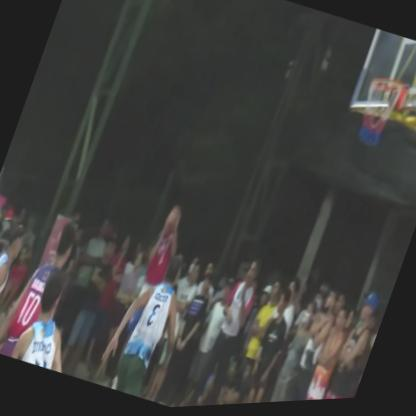basketball: (156, 201, 186, 250)
rim: (345, 61, 415, 169)
